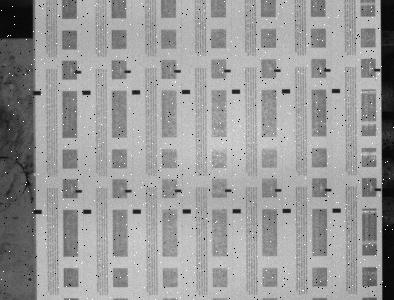backgroundclutter: (28, 278, 32, 281)
qblock: (82, 90, 91, 95), (182, 89, 191, 94), (34, 209, 42, 214), (83, 209, 91, 214), (333, 208, 341, 213), (283, 208, 291, 213), (332, 89, 341, 93), (282, 89, 291, 93), (132, 90, 141, 94), (33, 91, 41, 95), (232, 89, 240, 93), (133, 209, 141, 213), (233, 209, 241, 213), (183, 209, 191, 213)
smallqblock: (75, 70, 82, 74), (174, 69, 181, 73), (75, 189, 82, 193), (275, 188, 282, 192), (375, 68, 381, 72), (224, 69, 231, 72), (125, 189, 132, 192), (175, 189, 182, 192), (225, 189, 232, 192), (325, 188, 332, 191), (375, 188, 382, 191), (125, 70, 131, 73), (325, 69, 331, 72), (275, 69, 281, 72)
